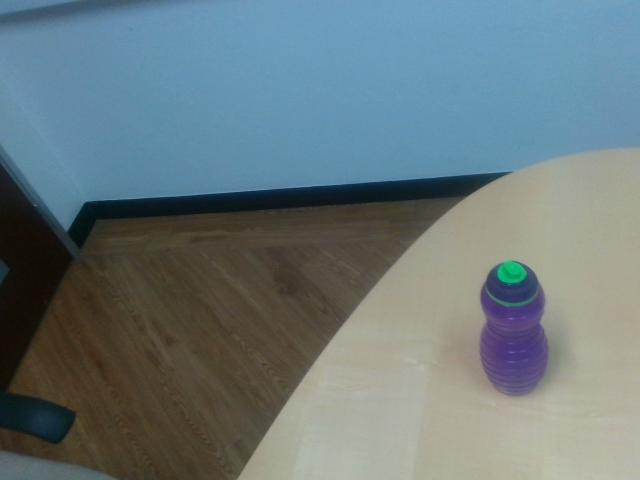bottle: (480, 260, 550, 397)
